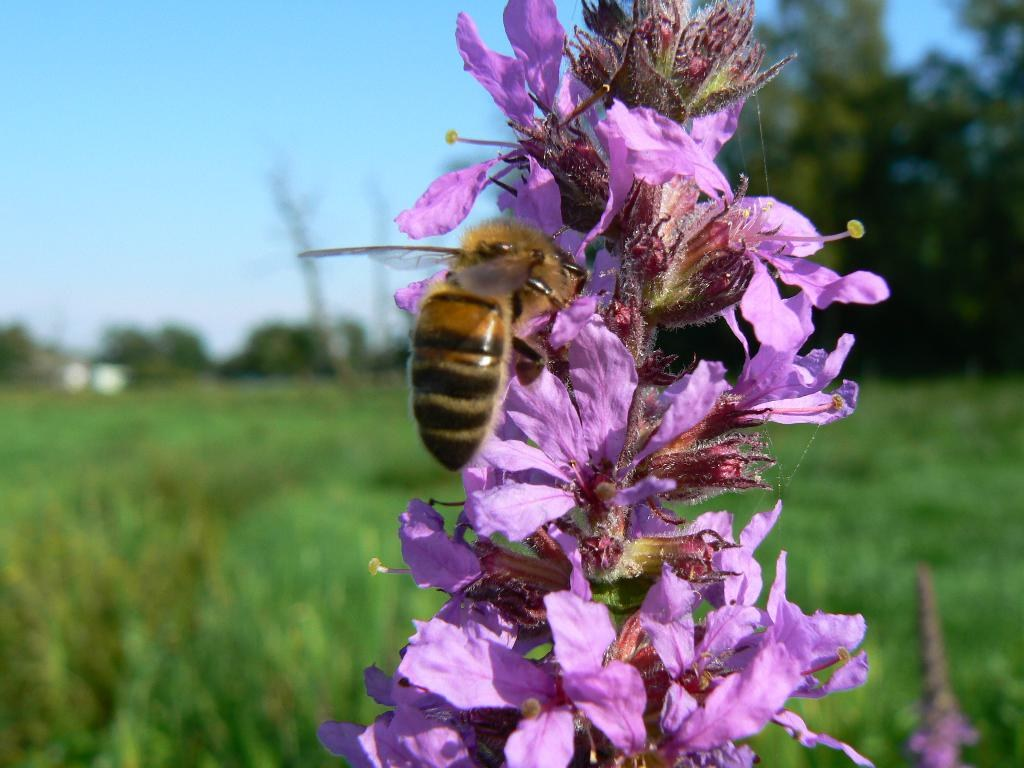bee: (298, 220, 592, 474)
insect: (318, 0, 895, 767), (707, 0, 1018, 386), (218, 309, 367, 382), (74, 315, 209, 373), (913, 718, 984, 767)
